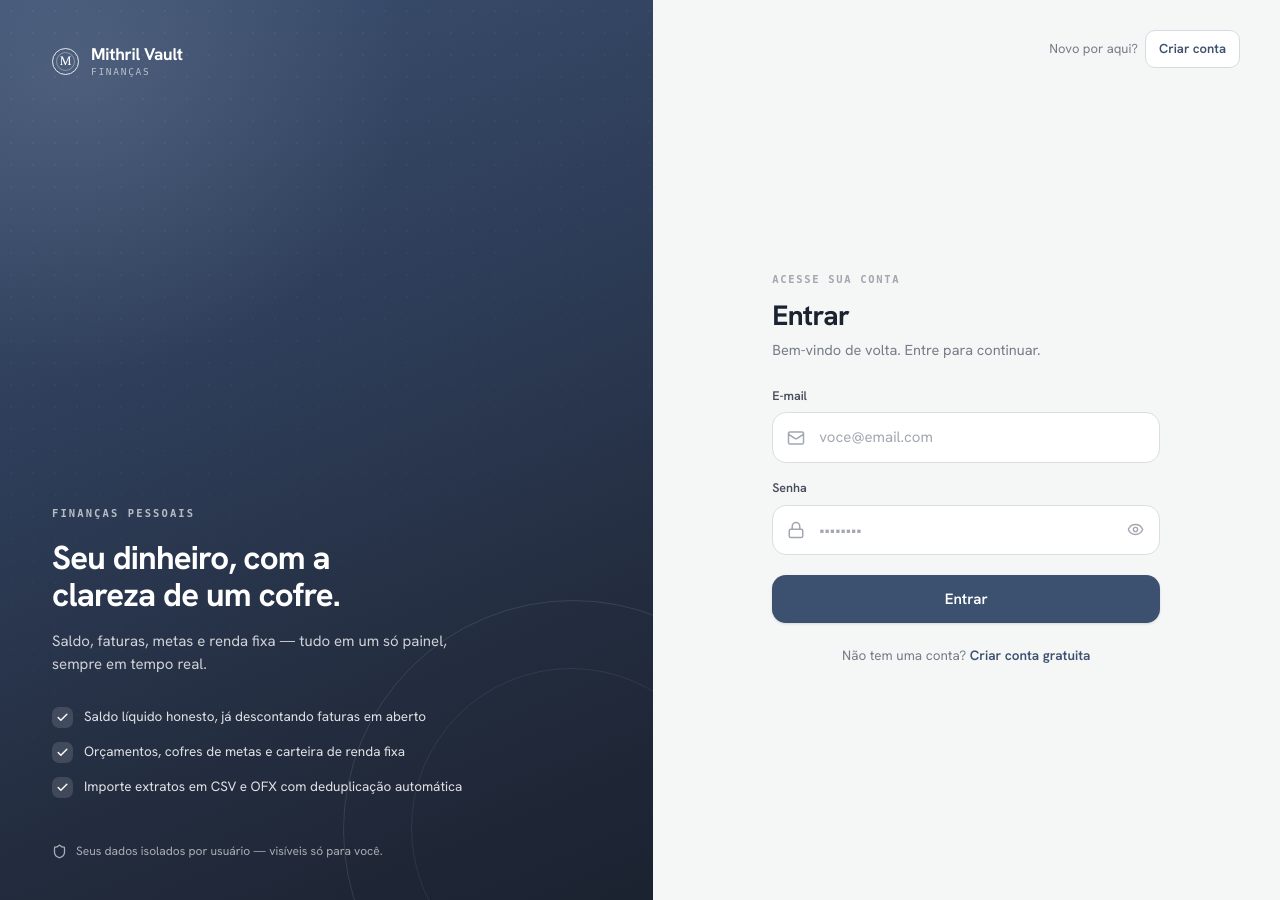
Test: LoginForm › shows email validation error when email is invalid
Click the button "Entrar" at coordinates (966, 599), box [772, 575, 1160, 623]
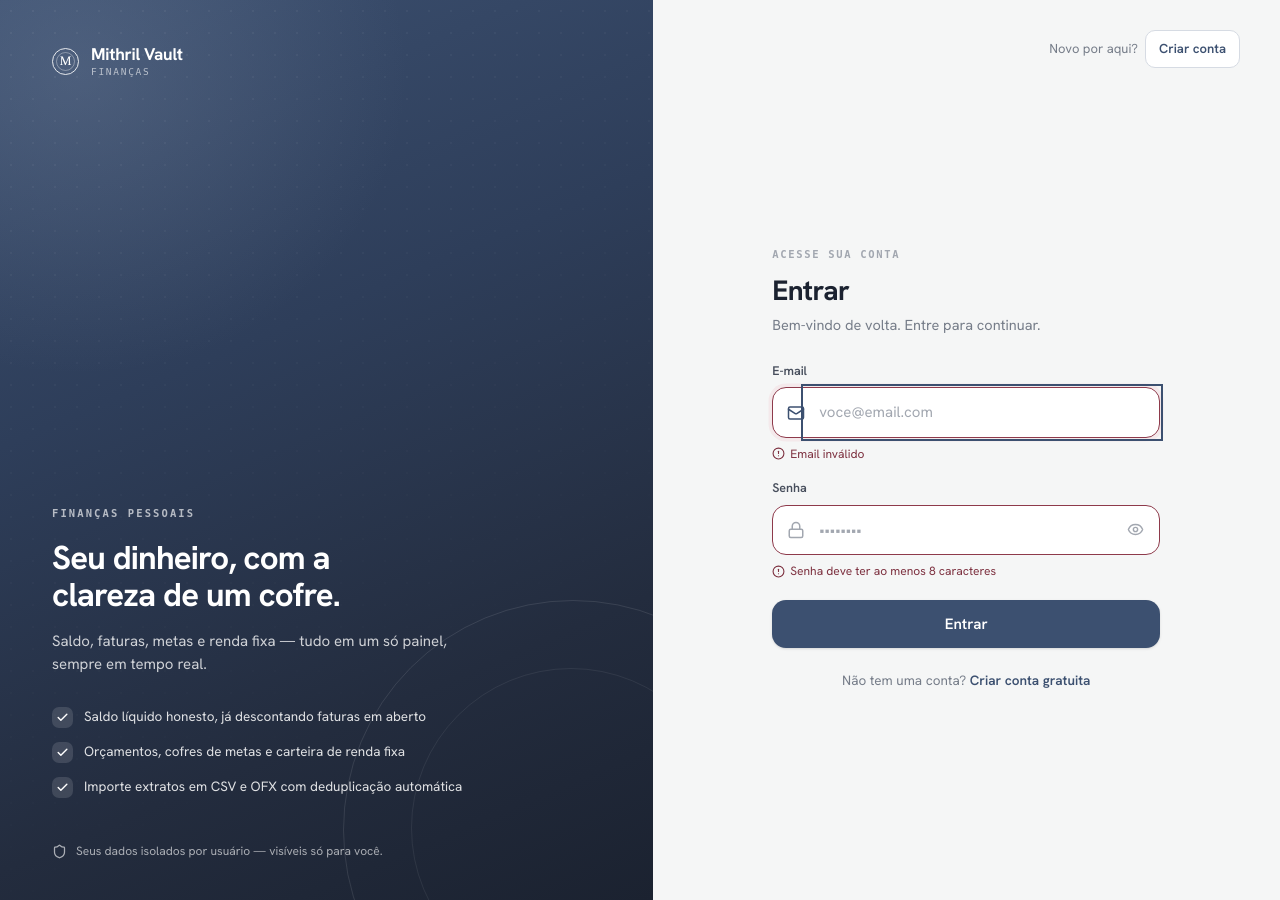
Expected: the text "Email inválido" is shown, [772, 446, 864, 462]
